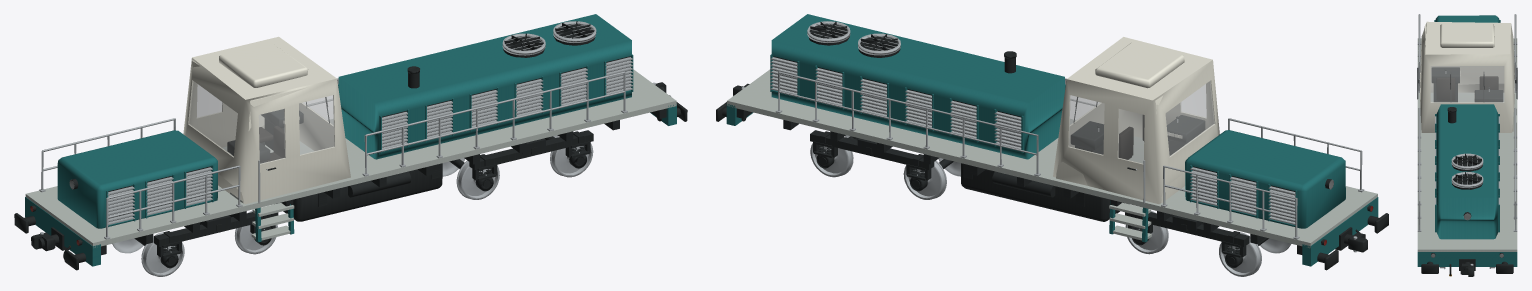
The model's file is train_locomotive.glb.
3 views of the same model, side by side, from view 1: azimuth 30°, elevation 25°; view 2: azimuth 150°, elevation 25°; view 3: azimuth 270°, elevation 25° (orthographic). The views are drawn at different scales.
Parts seen in each view (by area): view 1: Cab boarding stringer 1 -2350, Cab hollow curved shell with real apertures, Cab adjustable seat pedestal 1, Cab boarding tread 1 0, Cab boarding grab rail 1, Cab fitted front glazing, Cab throttle spindle 1, Cab cushioned seat 1; view 2: Cab boarding stringer 1 -2350, Cab hollow curved shell with real apertures, Cab adjustable seat pedestal 1, Cab boarding tread 1 0, Cab boarding grab rail 1, Cab fitted front glazing, Cab throttle spindle 1, Cab cushioned seat 1; view 3: Cab boarding stringer 1 -2350, Cab hollow curved shell with real apertures, Cab boarding tread 1 0, Cab fitted front glazing, Cab adjustable seat pedestal 1, Cab boarding grab rail 1, Cab cushioned seat 1, Cab front wiper blade 1.
Boxes of the visible parts, x1,y1,x2,y2 form: Cab boarding stringer 1 -2350: [25, 14, 676, 266]; Cab hollow curved shell with real apertures: [183, 36, 350, 204]; Cab adjustable seat pedestal 1: [14, 21, 687, 270]; Cab boarding tread 1 0: [25, 69, 676, 247]; Cab boarding grab rail 1: [39, 21, 632, 239]; Cab fitted front glazing: [189, 81, 334, 163]; Cab throttle spindle 1: [40, 82, 655, 276]; Cab cushioned seat 1: [259, 126, 284, 161]; Cab boarding stringer 1 -2350: [726, 14, 1378, 266]; Cab hollow curved shell with real apertures: [1053, 37, 1219, 204]; Cab adjustable seat pedestal 1: [716, 21, 1388, 270]; Cab boarding tread 1 0: [727, 69, 1377, 248]; Cab boarding grab rail 1: [770, 21, 1364, 239]; Cab fitted front glazing: [1069, 80, 1214, 163]; Cab throttle spindle 1: [741, 87, 1357, 276]; Cab cushioned seat 1: [1118, 115, 1144, 159]; Cab boarding stringer 1 -2350: [1417, 15, 1517, 266]; Cab hollow curved shell with real apertures: [1420, 21, 1514, 132]; Cab boarding tread 1 0: [1417, 38, 1517, 251]; Cab fitted front glazing: [1431, 66, 1514, 102]; Cab adjustable seat pedestal 1: [1418, 67, 1516, 276]; Cab boarding grab rail 1: [1417, 14, 1517, 231]; Cab cushioned seat 1: [1436, 76, 1498, 100]; Cab front wiper blade 1: [1449, 74, 1484, 275].
Size of the model in its own units: 16.25 by 4.28 by 3.03.
Materials: 12 (12 with a texture image).
